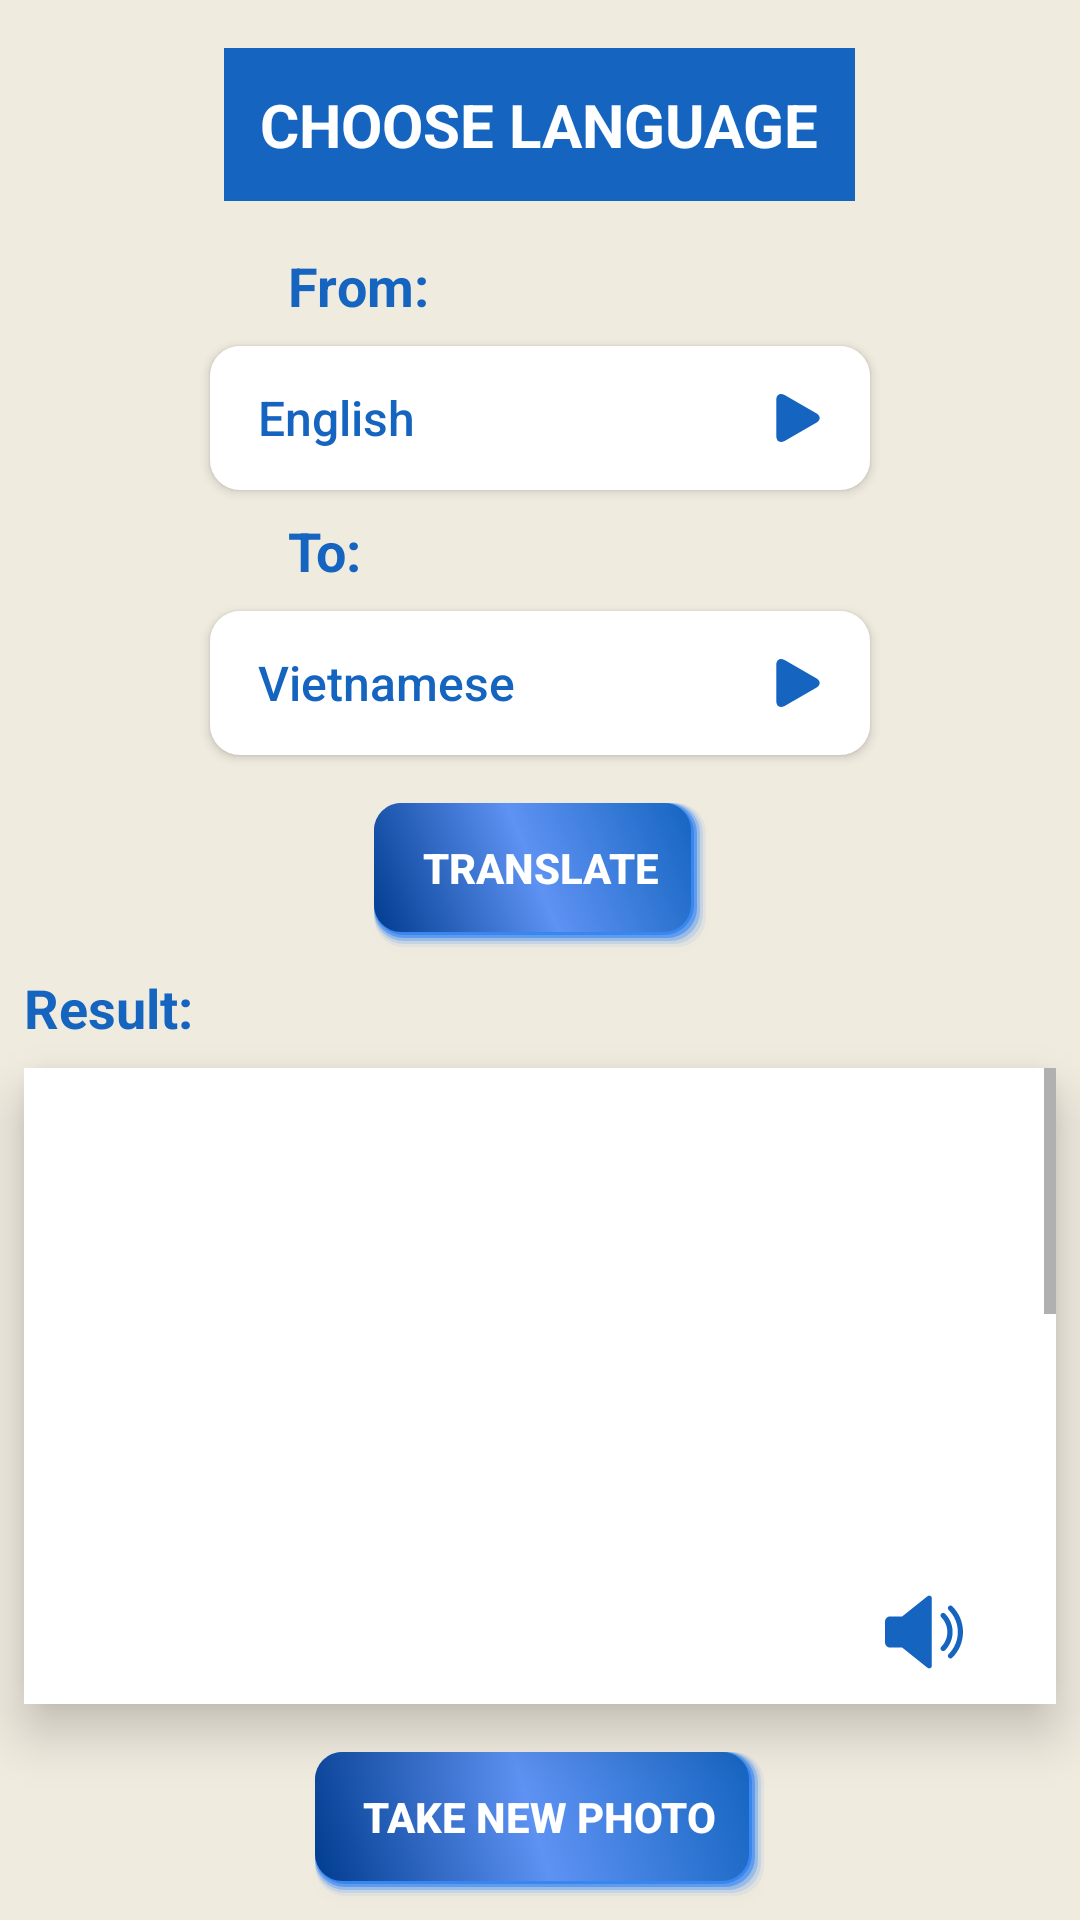

Screen size 1080w x 1920h. Icon name, then its center in pixels as [x,y]:
volume: [924,1632]
